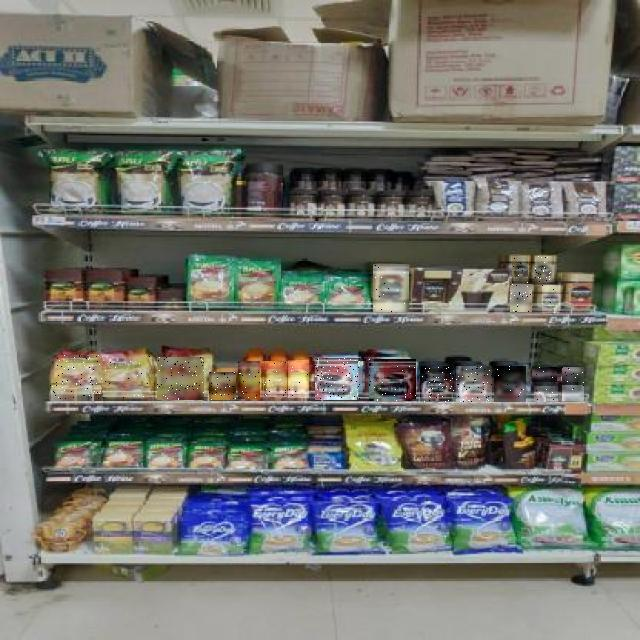Coffee: (100, 355, 152, 399), (50, 356, 102, 400), (158, 357, 206, 400), (369, 359, 416, 401), (316, 358, 362, 400), (373, 265, 409, 313), (456, 366, 492, 402), (420, 366, 454, 402), (494, 366, 526, 402), (238, 361, 260, 399), (264, 361, 287, 397), (288, 360, 309, 398), (209, 372, 236, 400), (510, 285, 532, 313), (542, 285, 560, 313), (535, 256, 554, 282), (512, 255, 528, 283), (532, 368, 557, 384), (534, 386, 558, 402), (562, 368, 584, 384), (562, 385, 584, 401)
